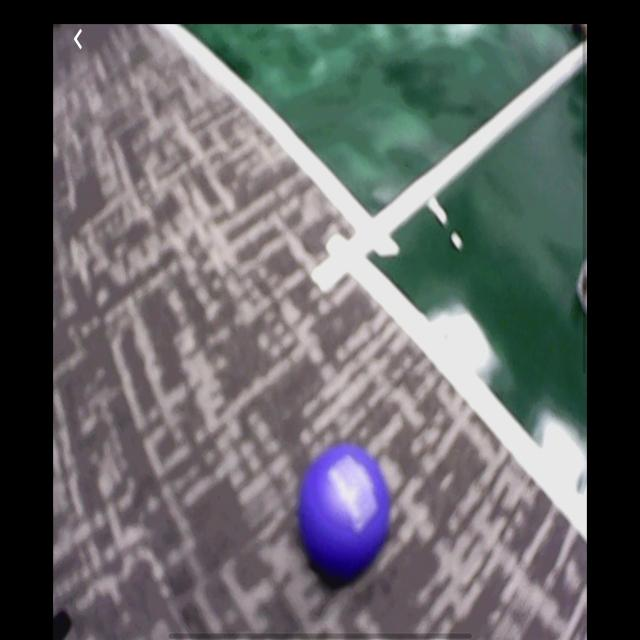ball: (302, 447, 391, 582)
